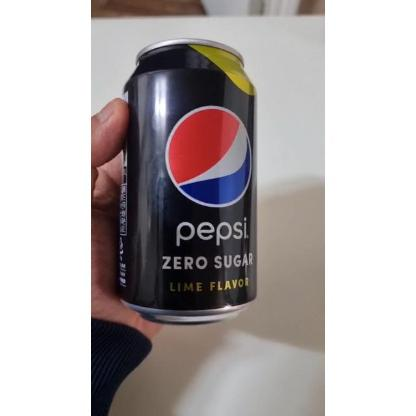Can: (118, 41, 254, 326)
